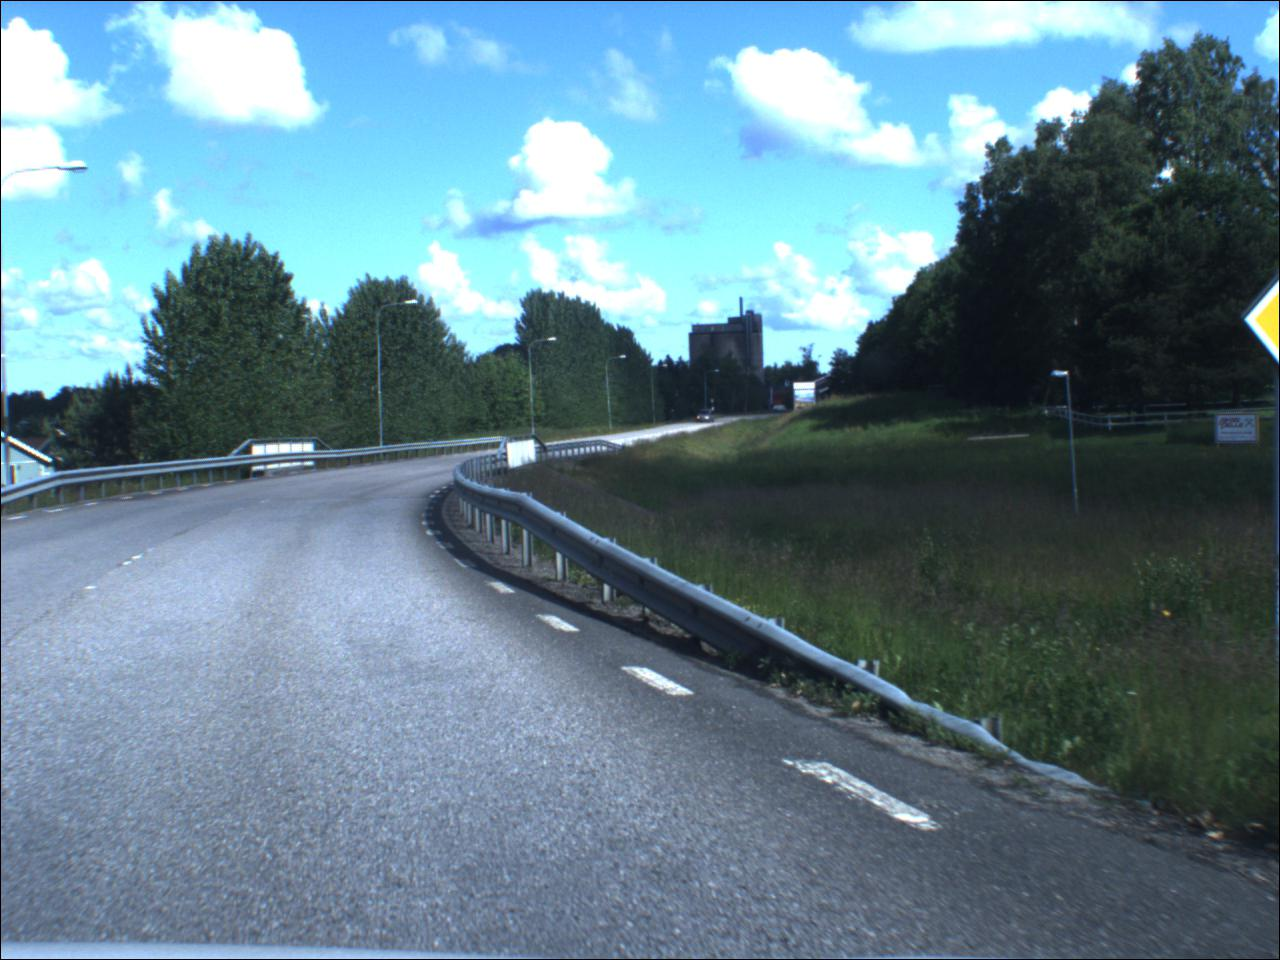PRIORITY_ROAD: (1237, 269, 1280, 369)
